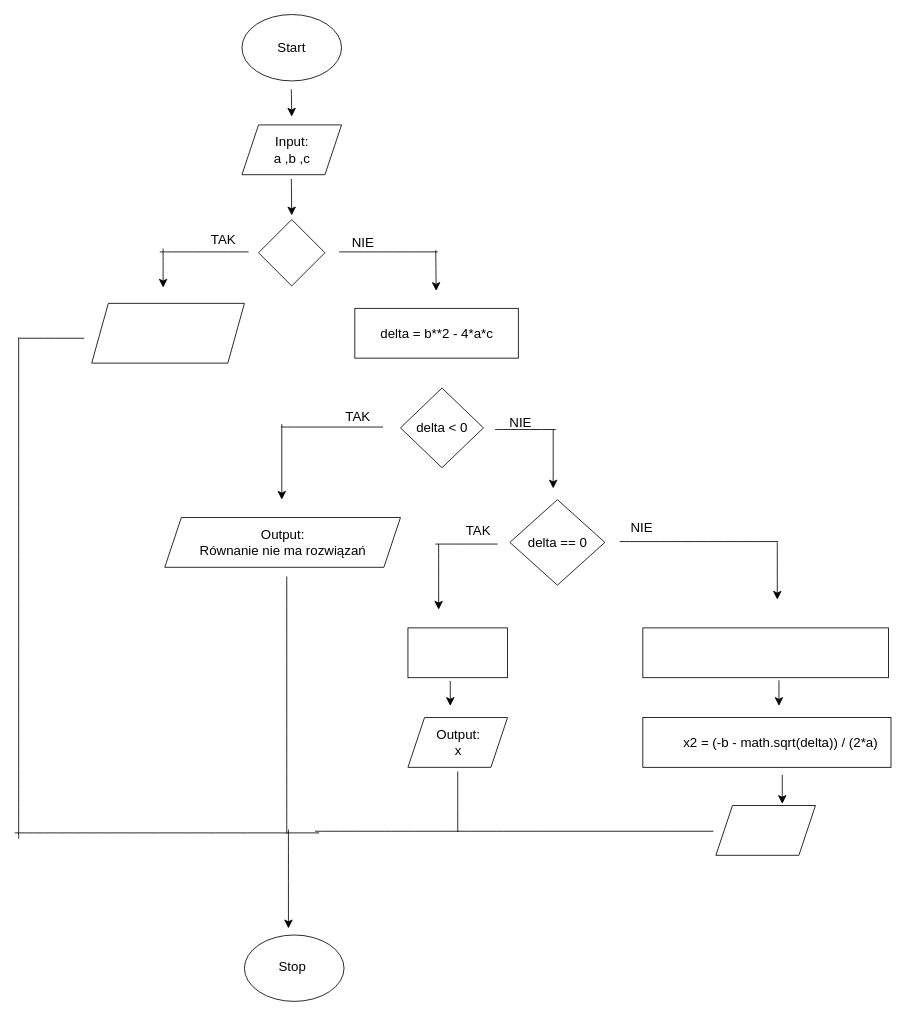
Some shapes in this 906 by 1016 pixel diagram are drawn without their labels. Here are the shapes that lost their labels. From the top down, the centre of each, then its label:
At point 291,252: "a == 0".
At point 167,333: "Output: Równanie liniowe".
At point 457,652: "x = b / 2*a".
At point 765,652: "x1 = (-b + math.sqrt(delta)) / (2*a)".
At point 765,830: "Output: x1, x2".
